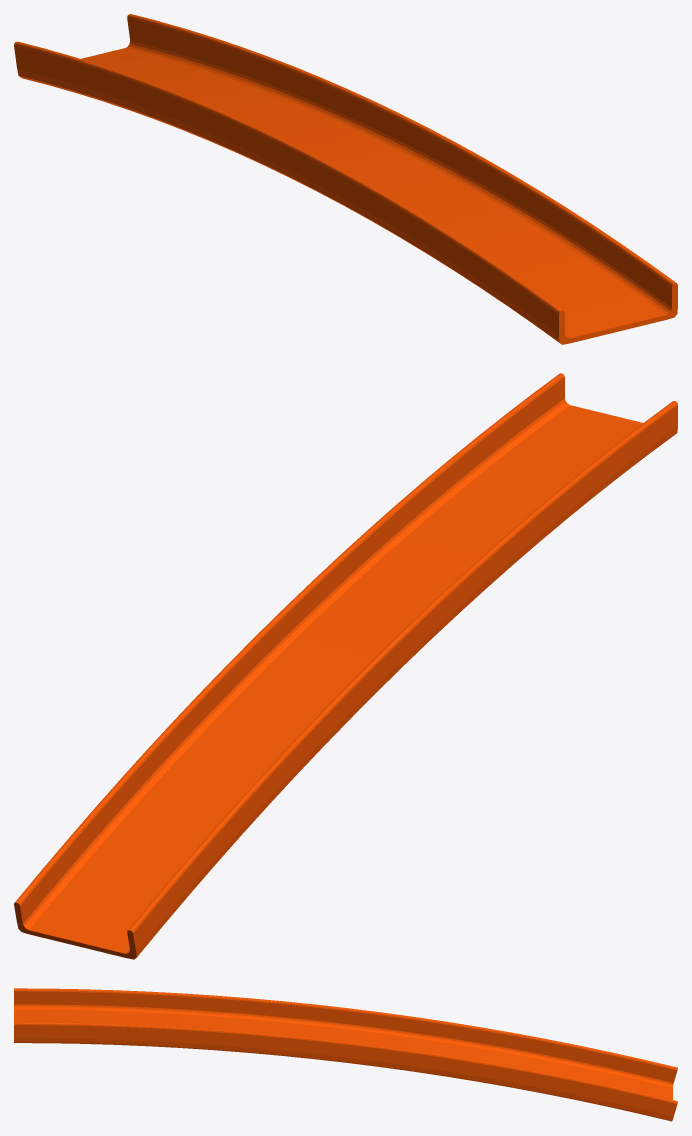
File: Descida 15.FBX
The picture shows the model from 3 angles, top to bottom: view 1: azimuth 30°, elevation 25°; view 2: azimuth 150°, elevation 25°; view 3: azimuth 270°, elevation 25°; orthographic projection. The views are drawn at different scales.
Visible parts, largest first — view 1: Descida 15; view 2: Descida 15; view 3: Descida 15.
Part boxes in pixels (x1,y1,x2,y2): Descida 15: (14,14,677,344); Descida 15: (14,373,677,959); Descida 15: (14,988,677,1121).
Bounding box in the file's own units: 250 × 328 × 1982.
